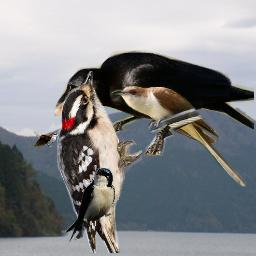Crow: (53, 50, 254, 156)
Cuckoo: (111, 84, 248, 189), (34, 123, 59, 148)
Swallow: (65, 168, 115, 242)
Woodpecker: (57, 71, 142, 253)
